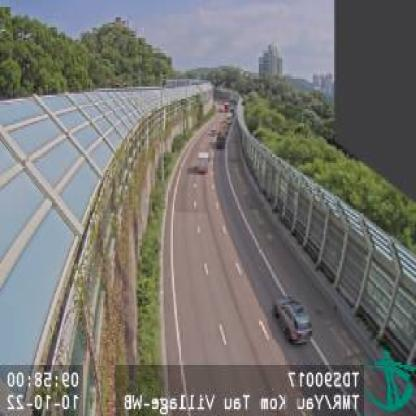Car: (274, 295, 312, 345)
Truck: (194, 152, 209, 174)
